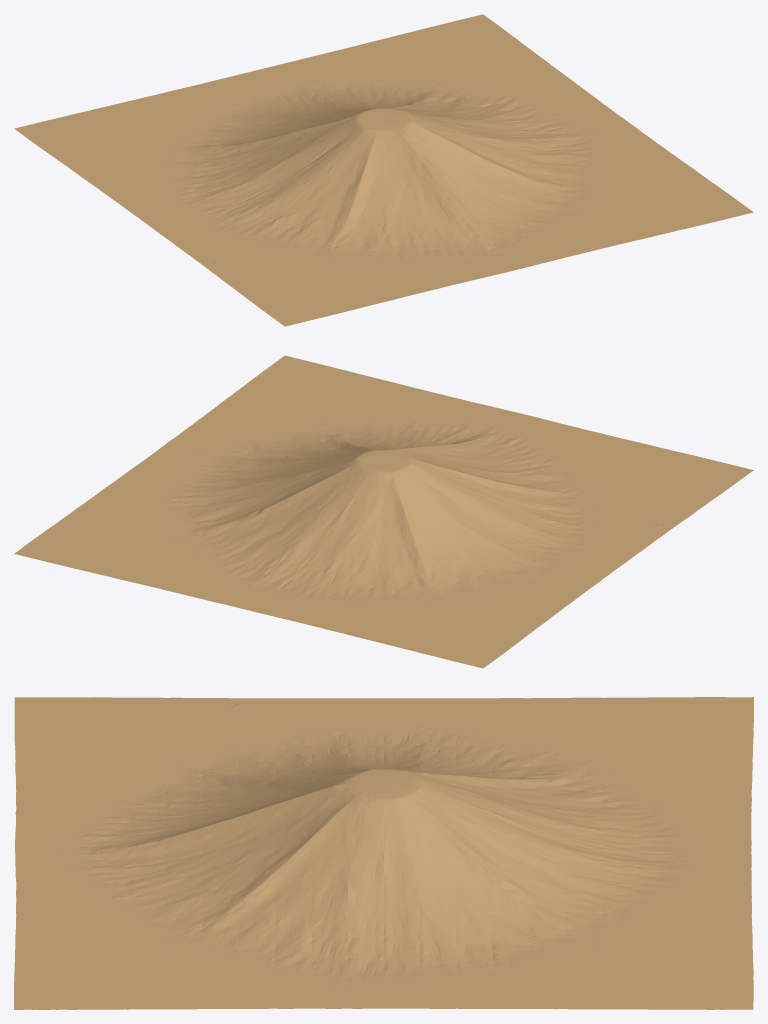
The model's file is level_4.glb.
3 renders of one model, top to bottom at view 1: azimuth 30°, elevation 25°; view 2: azimuth 150°, elevation 25°; view 3: azimuth 270°, elevation 25°, orthographic. The views are drawn at different scales.
Visible parts, largest first — view 1: world; view 2: world; view 3: world.
Part boxes in pixels (x1,y1,x2,y2): world: [14, 14, 753, 326]; world: [14, 355, 753, 668]; world: [14, 697, 753, 1009].
Bounding box in the file's own units: 0.6423 × 0.0676 × 0.6423.
